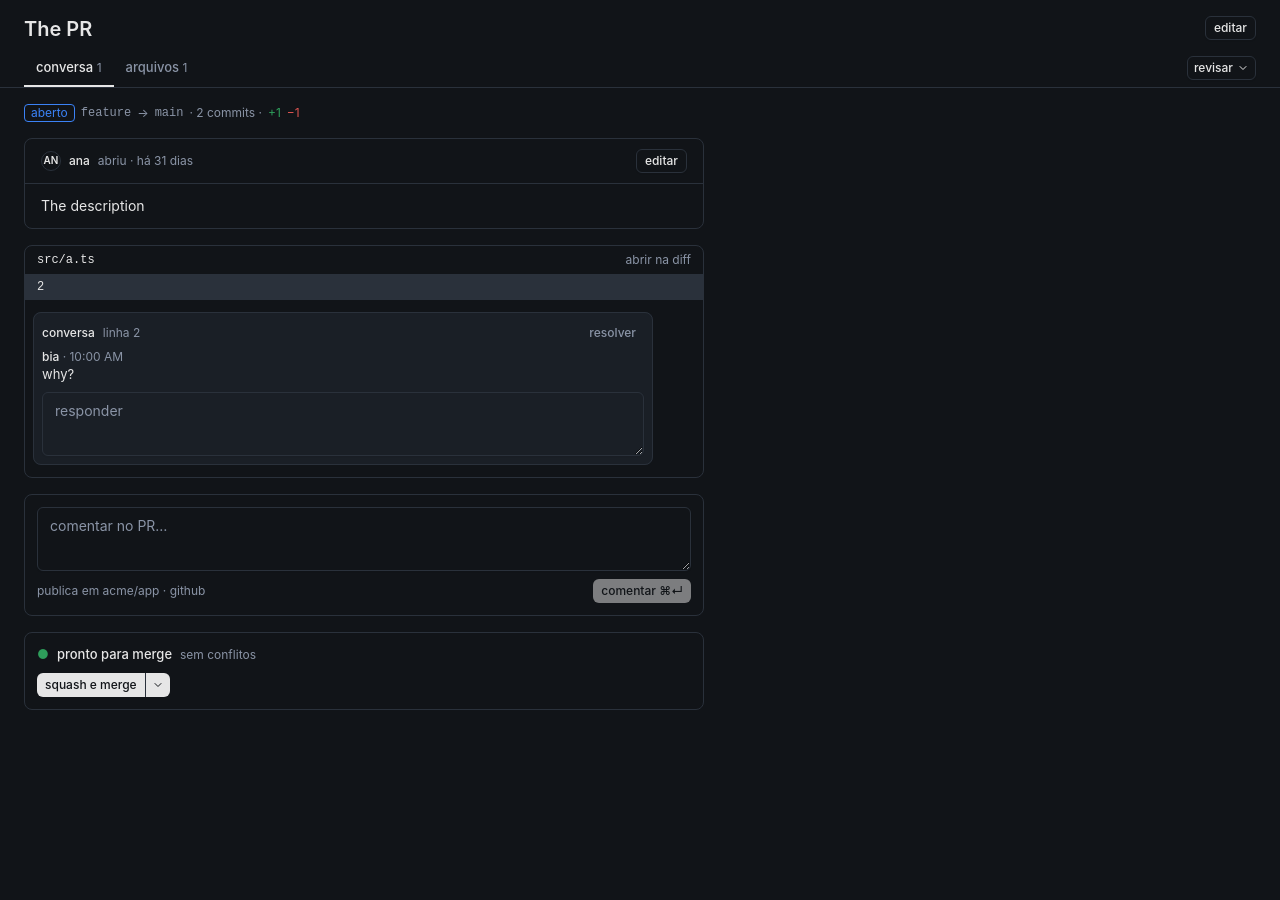
Scenario: on one's own PR approve and request changes are off, with GitHub's reason as their tooltip (#758)
Click the button "revisar".
click(1221, 68)  # box [1187,56,1256,80]
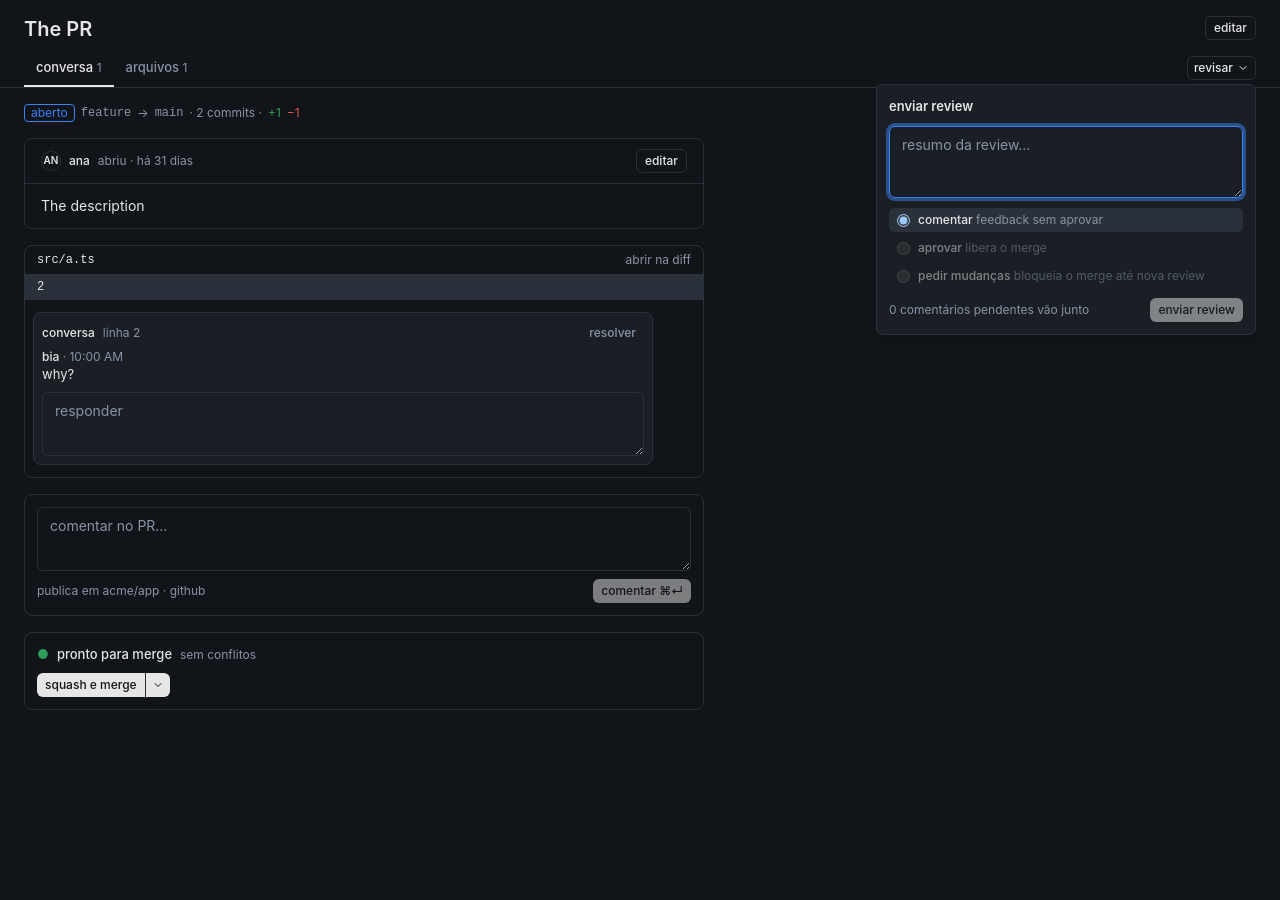
expect the radio button labelled "aprovar libera o merge" is disabled: met, box [897,242,910,255]
expect the radio button labelled "pedir mudanças bloqueia o merge até nova review" is disabled: met, box [897,270,910,283]
expect the radio button labelled "comentar feedback sem aprovar" is enabled: met, box [897,214,910,227]
